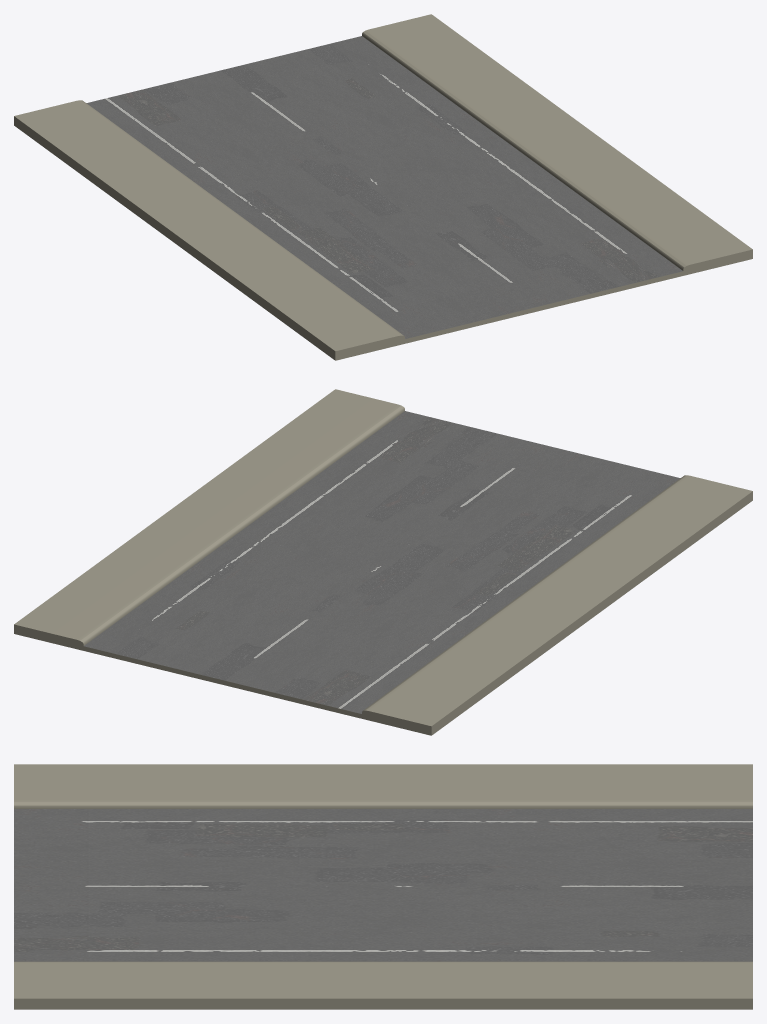
Rendered from Road.fbx.
The picture shows the model from 3 angles, top to bottom: view 1: azimuth 30°, elevation 25°; view 2: azimuth 150°, elevation 25°; view 3: azimuth 270°, elevation 25°; orthographic projection. The views are drawn at different scales.
Visible parts, largest first — view 1: Road; view 2: Road; view 3: Road.
Boxes of the visible parts, box(x1,y1,x2,y2) form: Road: box(14, 14, 752, 360); Road: box(14, 389, 752, 735); Road: box(14, 764, 752, 1009).
Size of the model in its own units: 18 by 0.3911 by 24.
